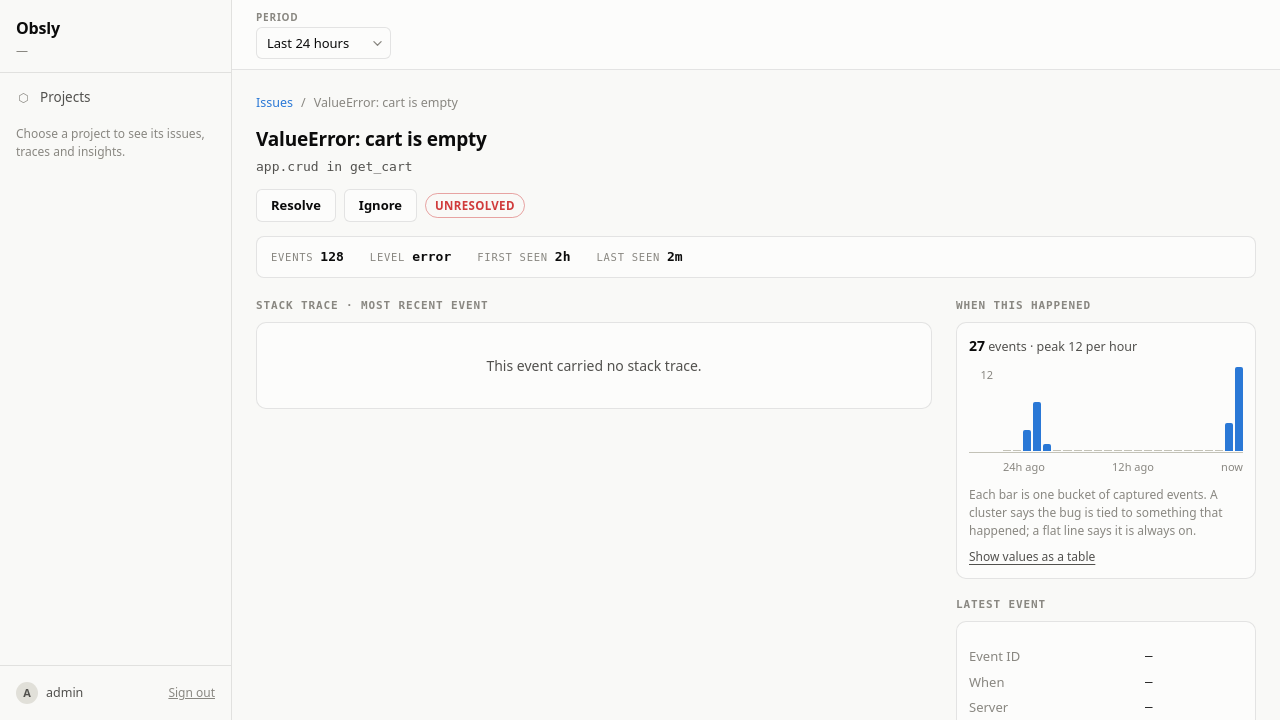
Test: StatusActions › does not claim success when the server rejects the change
Click the button "Resolve".
click(296, 206)  # box [256,189,336,222]
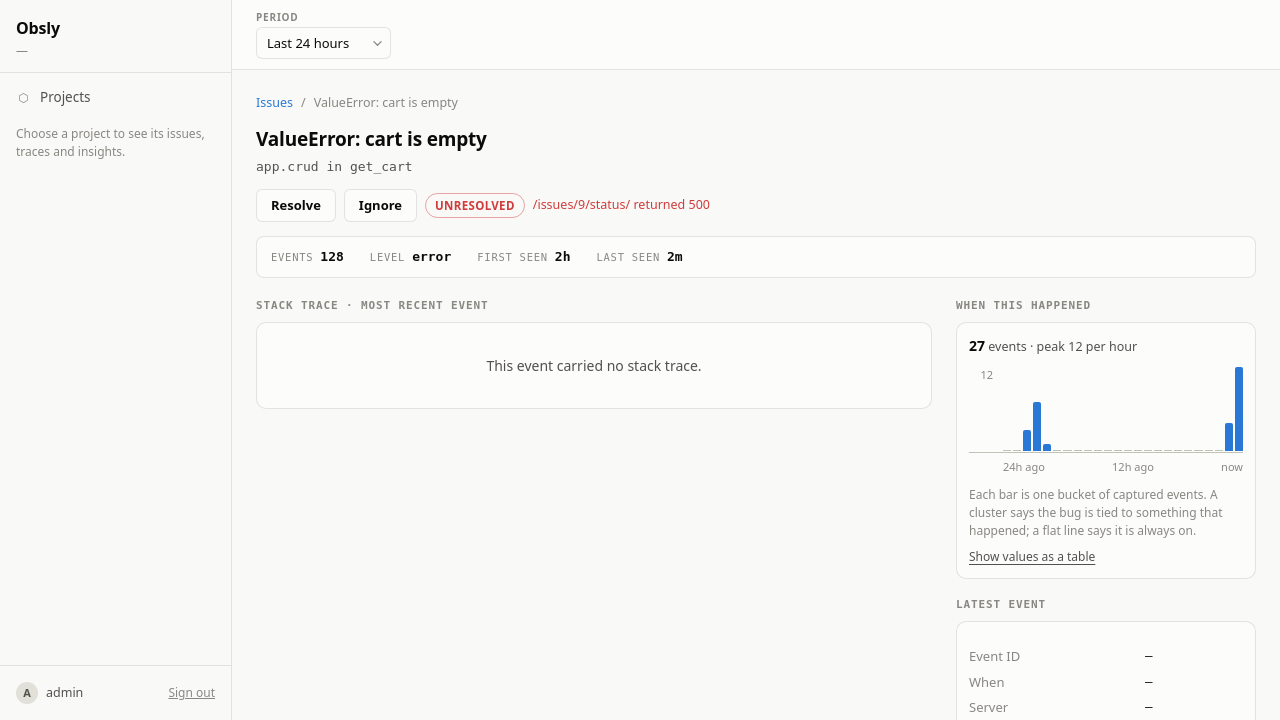
Expected: the text "/issues/9/status/ returned 500" is shown, [533,196,710,215]
